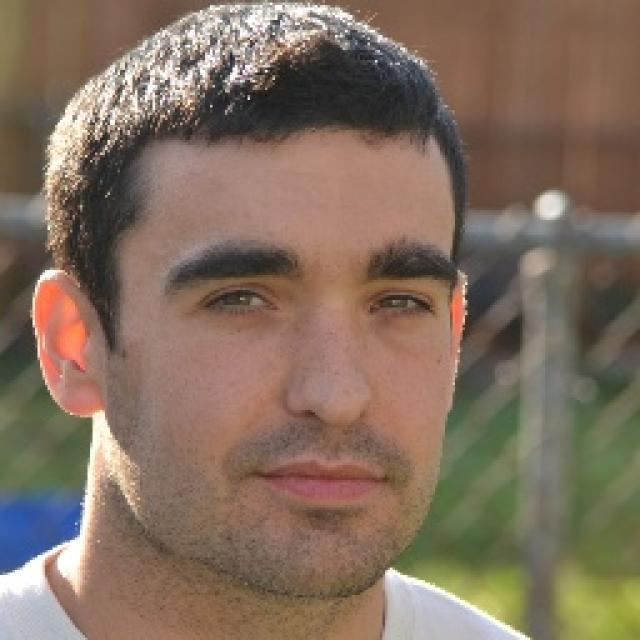earlobe: (32, 268, 108, 416), (446, 268, 470, 416)
